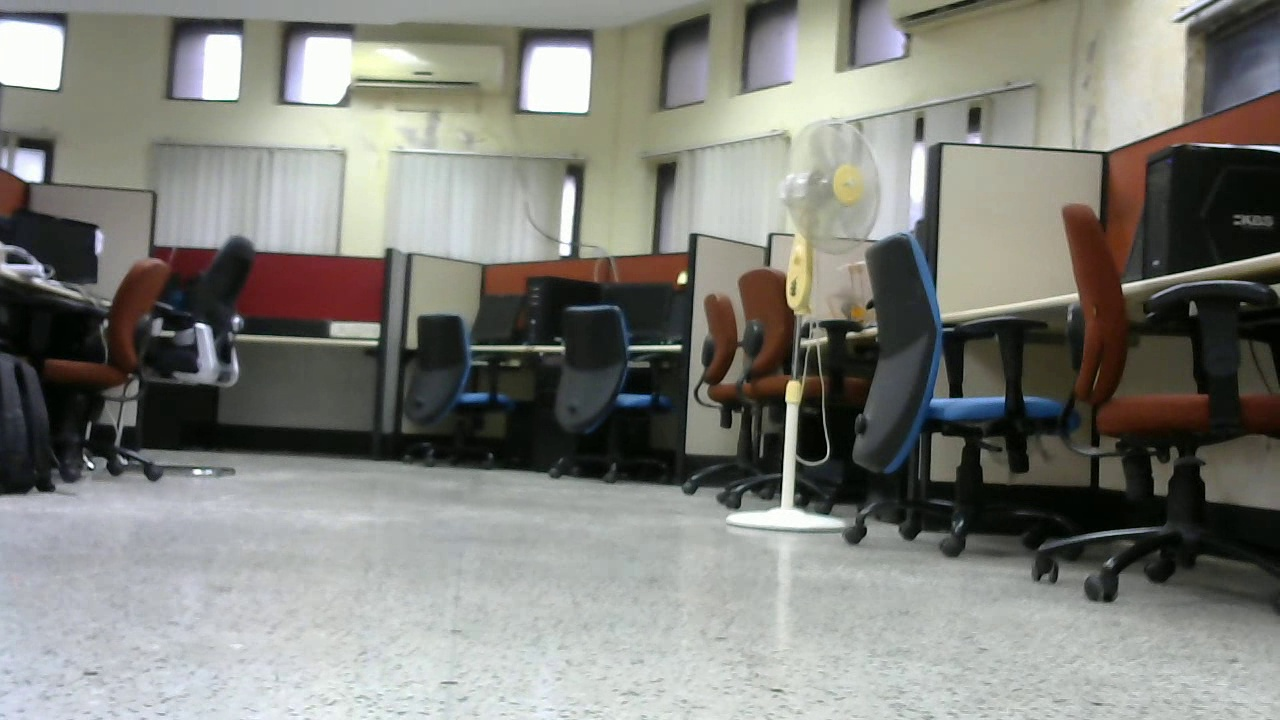chair: (1032, 205, 1280, 611), (841, 233, 1086, 561), (100, 230, 257, 479), (690, 269, 850, 503), (35, 260, 170, 492), (542, 298, 677, 489), (398, 314, 515, 473)
